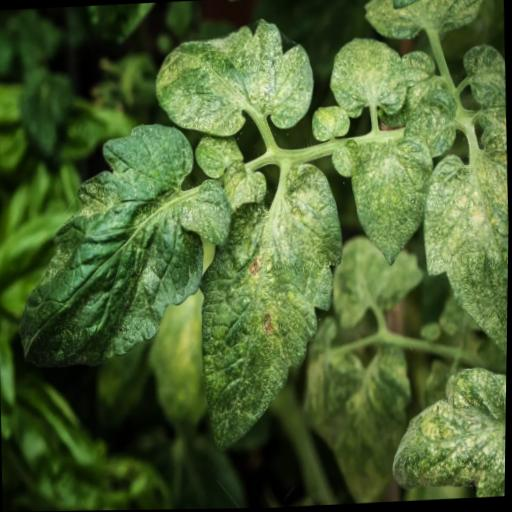Spider Mites: (10, 118, 210, 369), (192, 162, 348, 445), (148, 16, 316, 137), (387, 365, 508, 502), (345, 130, 437, 268), (325, 34, 408, 120)
